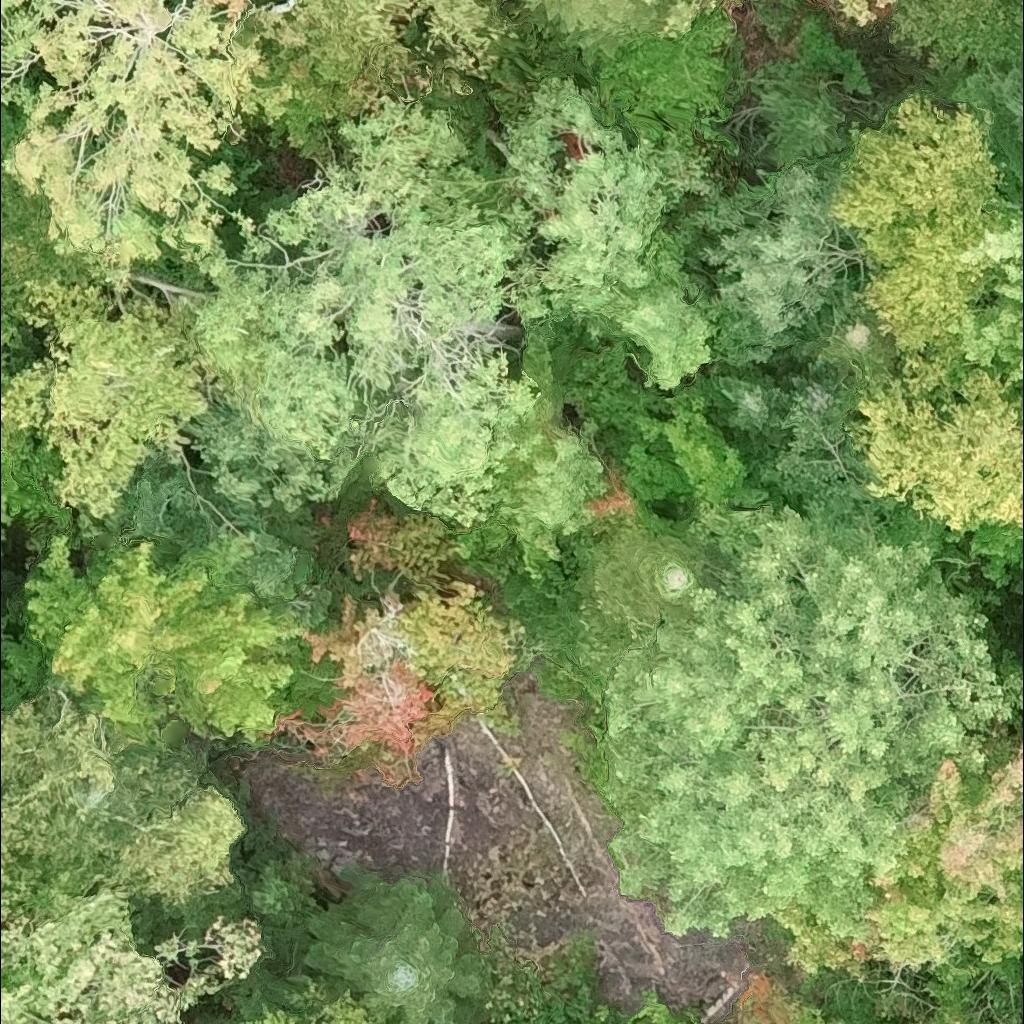crown: (608, 382, 1020, 937), (274, 496, 533, 786), (788, 720, 1023, 995), (23, 534, 307, 748), (0, 684, 247, 908), (0, 274, 220, 516), (0, 856, 262, 1023), (301, 876, 493, 1023), (572, 514, 726, 669), (0, 424, 77, 550), (249, 987, 382, 1023), (740, 976, 829, 1023), (935, 987, 995, 1023), (627, 1003, 699, 1023), (0, 620, 26, 644), (0, 664, 5, 698)
